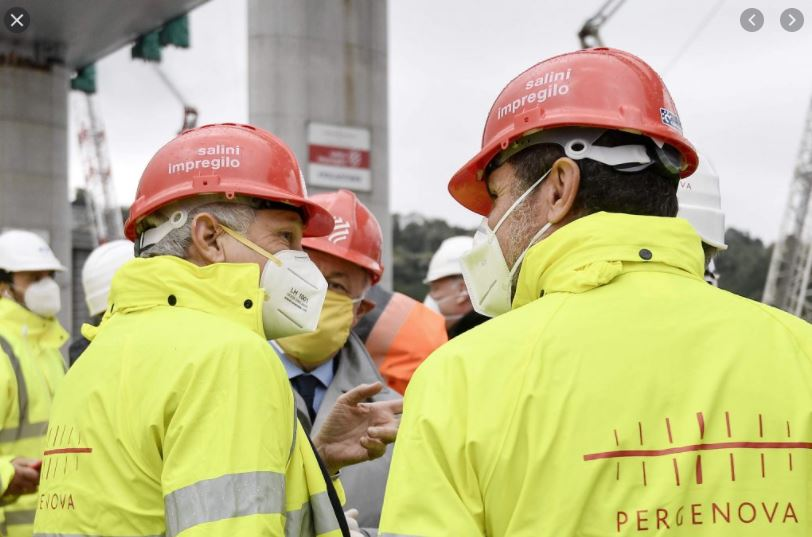Safety Helmet: (437, 34, 709, 311), (112, 108, 330, 357), (283, 174, 390, 371), (1, 215, 69, 342), (411, 231, 486, 331)
